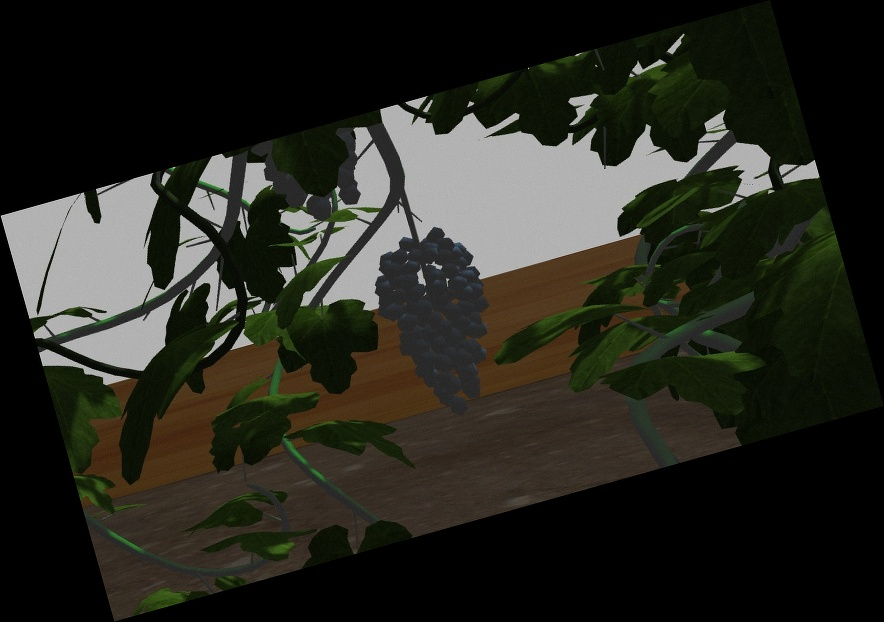grape: (385, 232, 494, 414)
